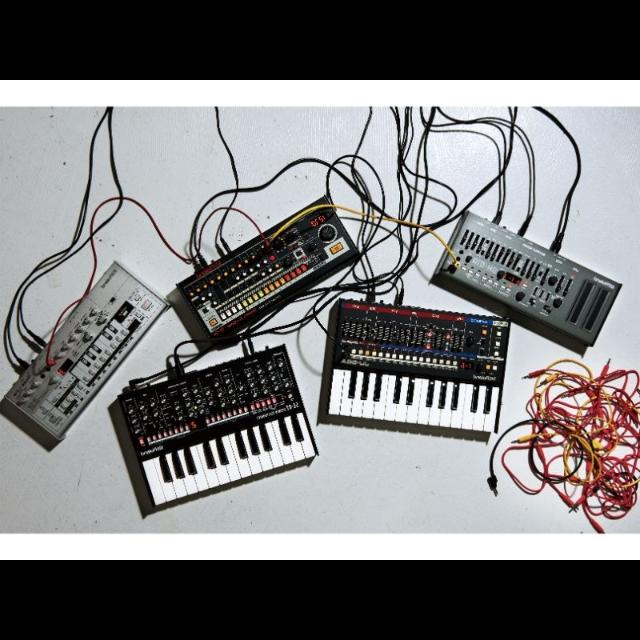Electronic-Keyboard: (322, 296, 508, 434), (112, 373, 300, 502)
